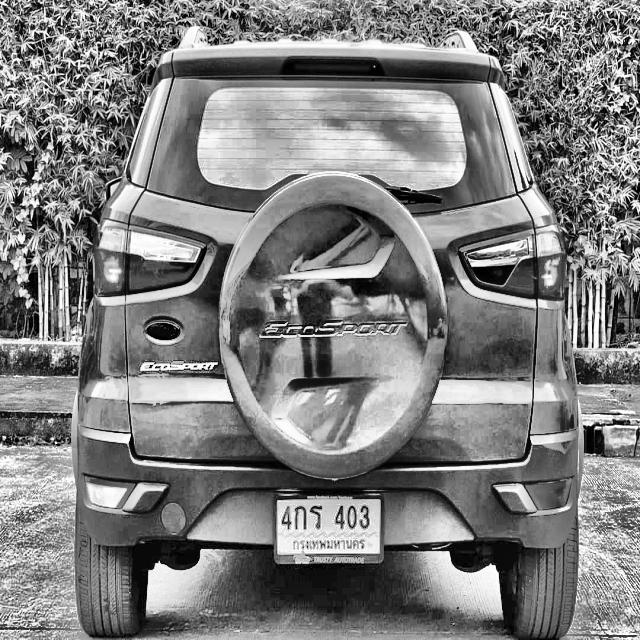license-plate: (271, 492, 385, 567)
